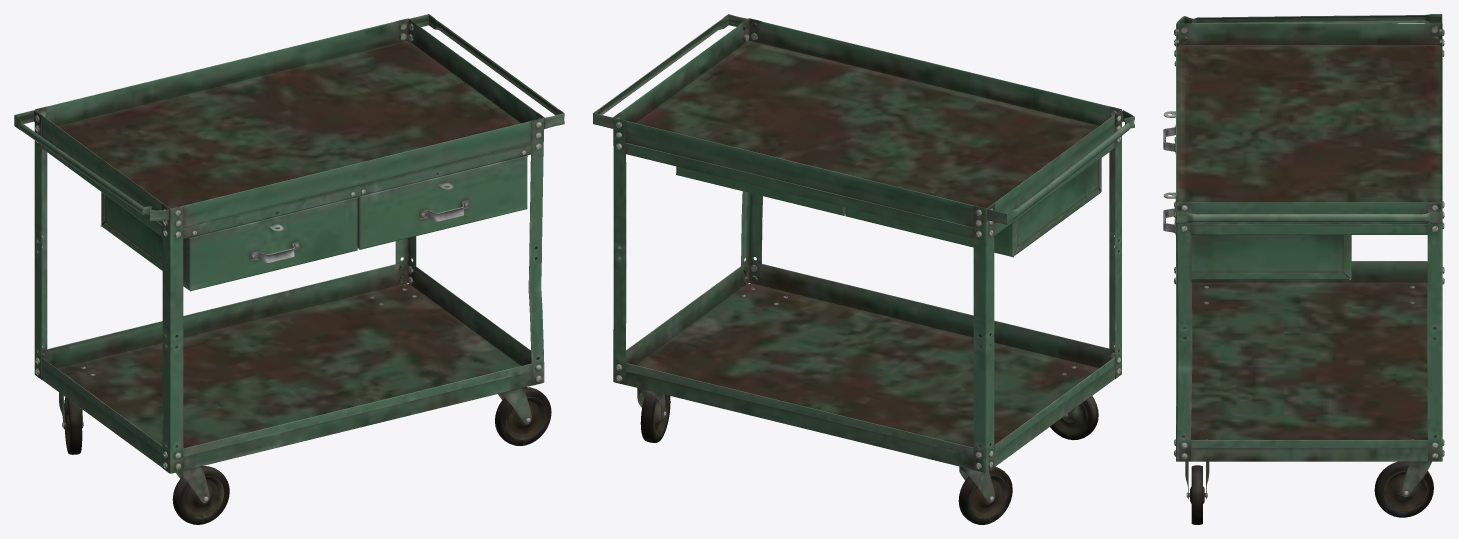
File: tool_cart.glb
3 views of the same model, side by side, from view 1: azimuth 30°, elevation 25°; view 2: azimuth 150°, elevation 25°; view 3: azimuth 270°, elevation 25° (orthographic). The views are drawn at different scales.
Visible parts, largest first — view 1: tool_cart; view 2: tool_cart; view 3: tool_cart.
Boxes of the visible parts, x1=… form: tool_cart: x1=14, y1=14, x2=564, y2=524; tool_cart: x1=593, y1=14, x2=1134, y2=524; tool_cart: x1=1163, y1=14, x2=1444, y2=524.
Bounding box in the file's own units: 1.27 × 0.9646 × 0.7537.
Materials: 1 (1 with a texture image).
